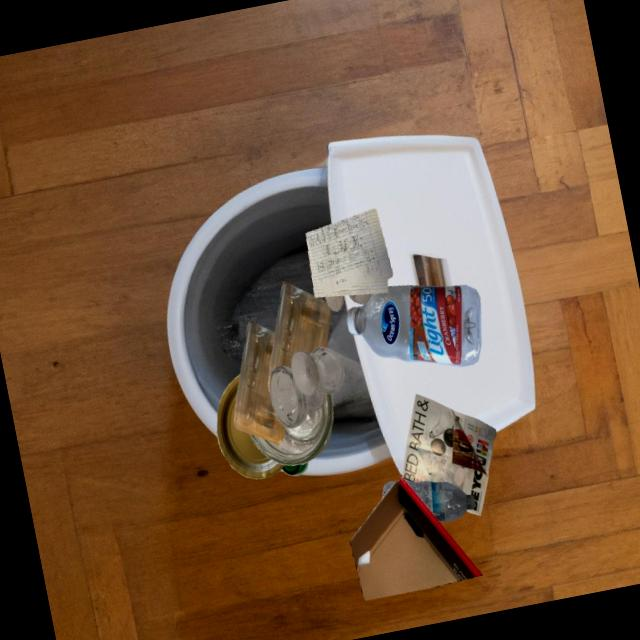cardboard: (350, 478, 483, 601)
glass: (249, 393, 333, 466), (270, 366, 325, 429), (291, 347, 344, 395), (282, 461, 308, 476), (325, 295, 343, 311), (349, 293, 371, 304)
paper: (402, 394, 496, 516), (306, 209, 393, 297), (217, 374, 285, 479)
plastic: (347, 285, 481, 367), (268, 282, 331, 392), (234, 321, 285, 444), (406, 481, 475, 522)
